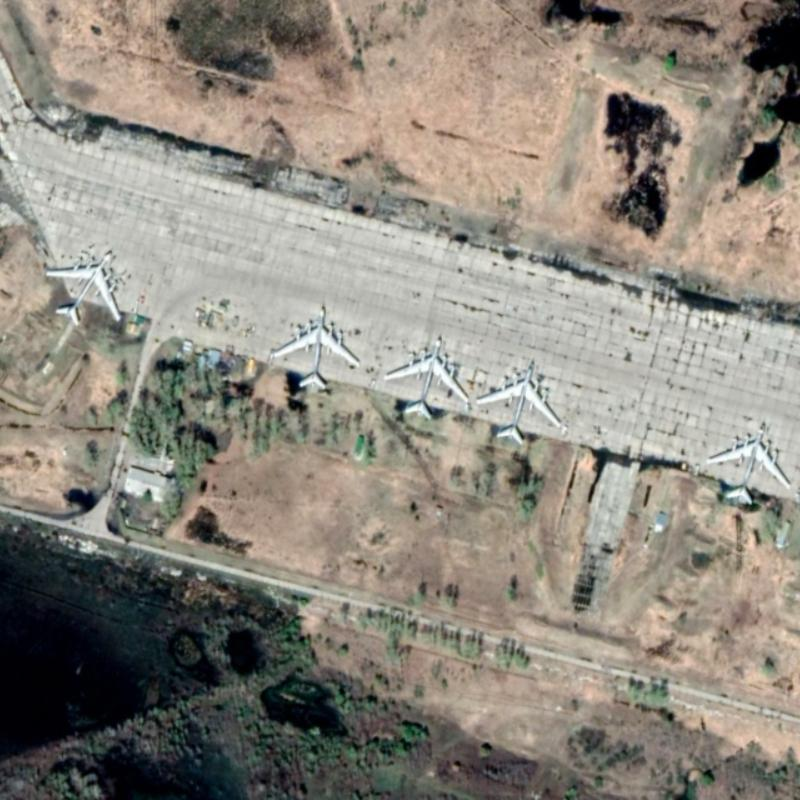A17: (270, 306, 361, 390), (473, 363, 562, 446), (383, 336, 469, 419), (704, 424, 791, 506), (43, 250, 122, 327)
